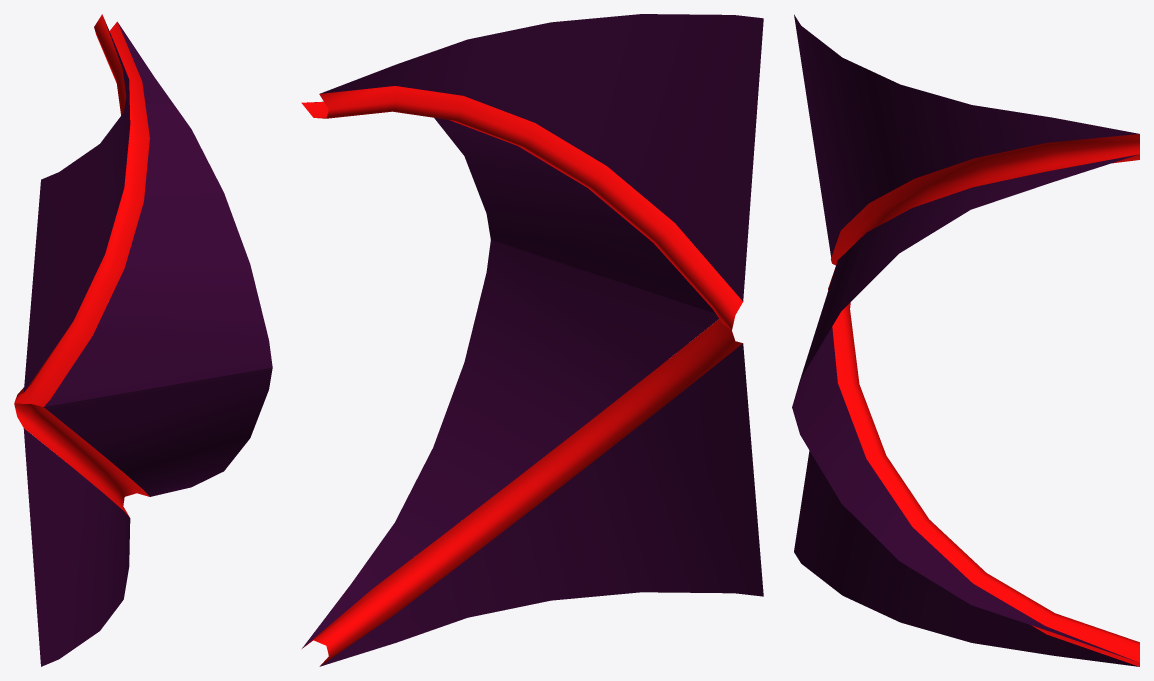
File: Cath_arcVaultHalf2_s.FBX
3 renders of one model, left to right at view 1: azimuth 30°, elevation 25°; view 2: azimuth 150°, elevation 25°; view 3: azimuth 270°, elevation 25°, orthographic. The views are drawn at different scales.
Visible parts, largest first — view 1: Cath_arcVaultHalf2_s; view 2: Cath_arcVaultHalf2_s; view 3: Cath_arcVaultHalf2_s.
Part boxes in pixels (x1,y1,x2,y2): Cath_arcVaultHalf2_s: (14, 14, 272, 666); Cath_arcVaultHalf2_s: (301, 14, 763, 666); Cath_arcVaultHalf2_s: (792, 14, 1139, 666).
Bounding box in the file's own units: 175 × 205 × 351.
